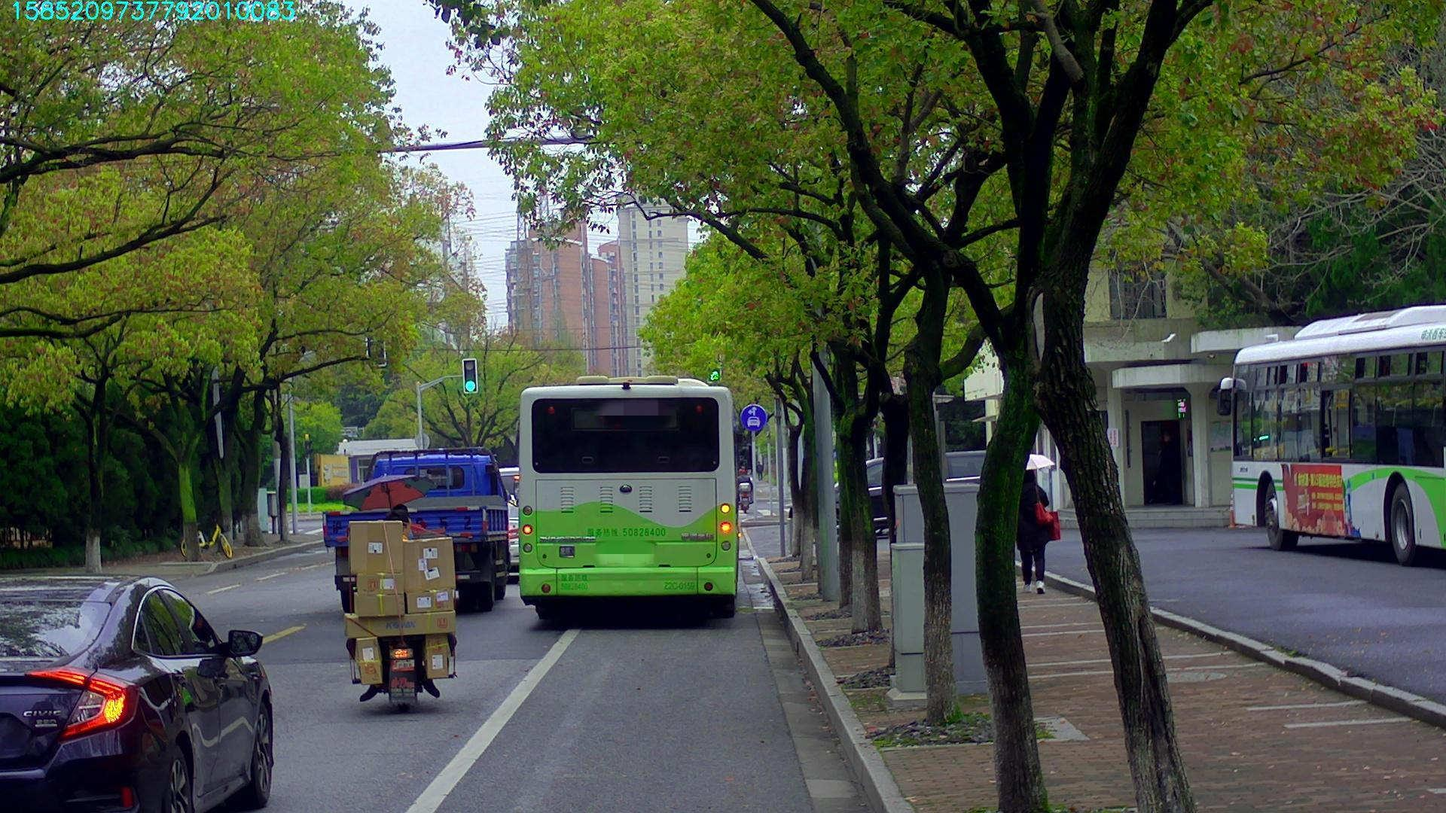green: (462, 359, 475, 391), (707, 368, 720, 382)
